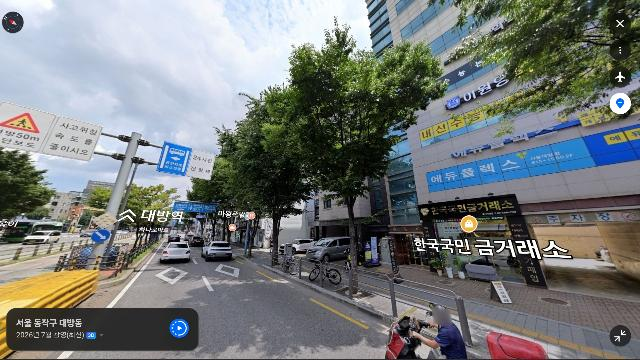other: (234, 15, 449, 301), (436, 0, 640, 125), (189, 89, 319, 263), (0, 147, 55, 223), (129, 183, 176, 255), (86, 185, 132, 250)
